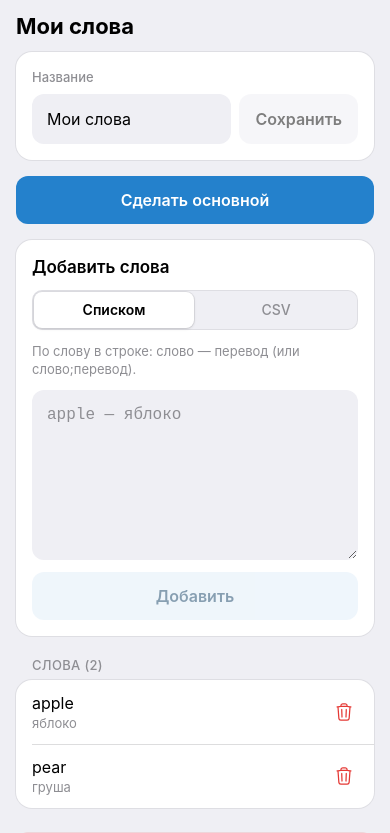
DeckEditView › adding words › switches the format with the segments and shows the matching hint
Expected: the radio button with test id "format-list" reads "Списком", [34,292,194,328]
Expected: the text with test id "hint" shows "слово — перевод", [32,343,300,377]
Click the radio button with test id "format-csv" at x=276, y=310, box [196,292,356,328]
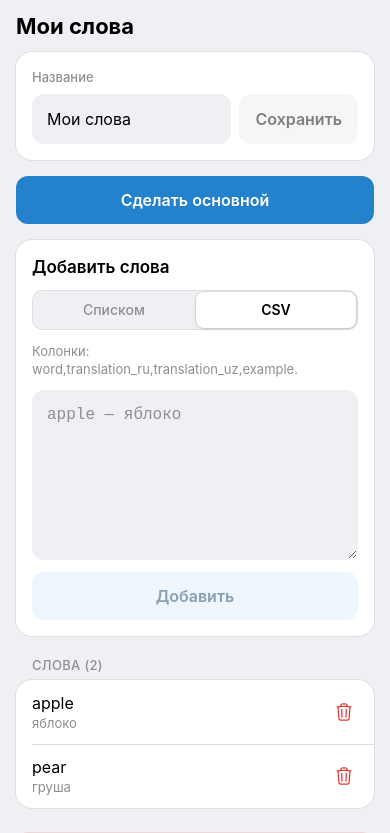
Expected: the text with test id "hint" shows "word,translation_ru", [32,343,298,377]
Click the radio button with test id "format-list" at x=114, y=310, box [34,292,194,328]
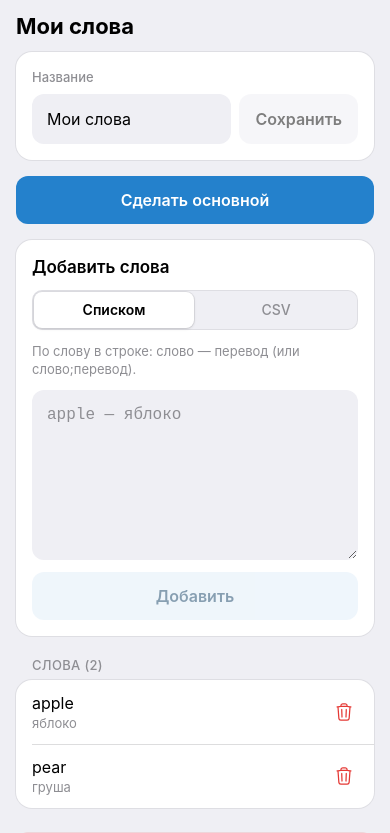
Expected: the text with test id "hint" shows "слово — перевод", [32,343,300,377]
